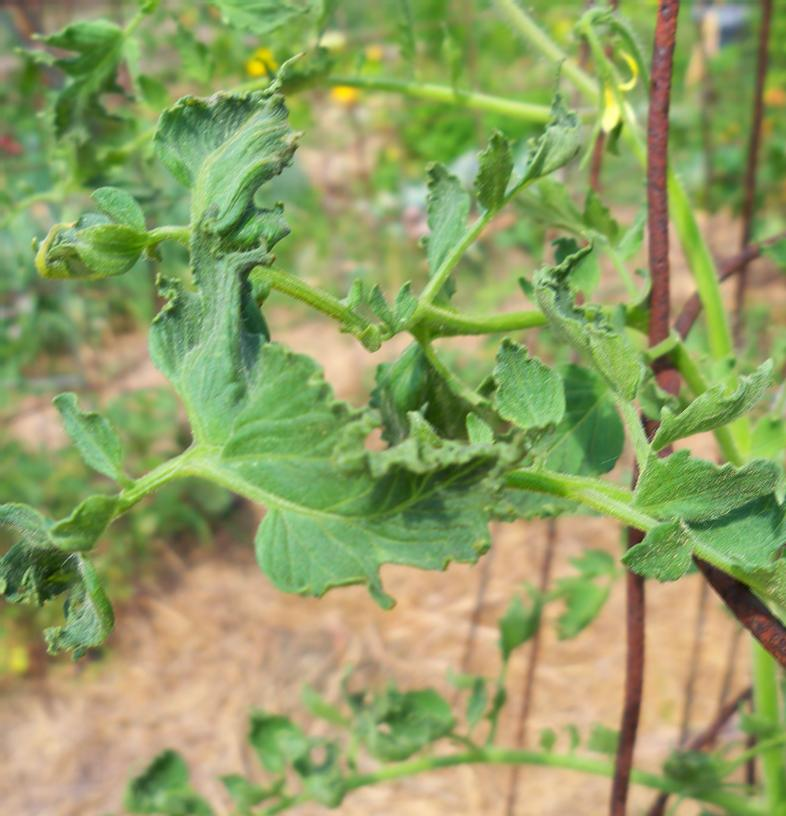Tomato leaf mosaic virus: (184, 341, 491, 593), (145, 50, 305, 463), (0, 468, 124, 679), (624, 446, 786, 594), (485, 335, 571, 430), (417, 148, 469, 281)
